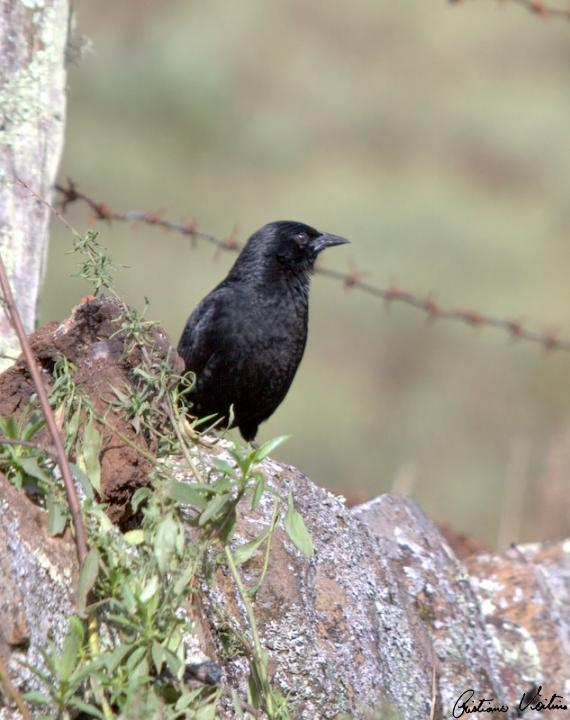grauna: (172, 213, 353, 459)
